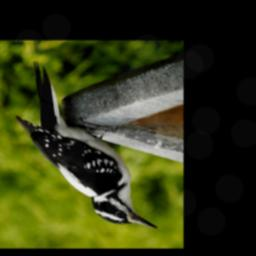Woodpecker: (16, 60, 159, 234)
